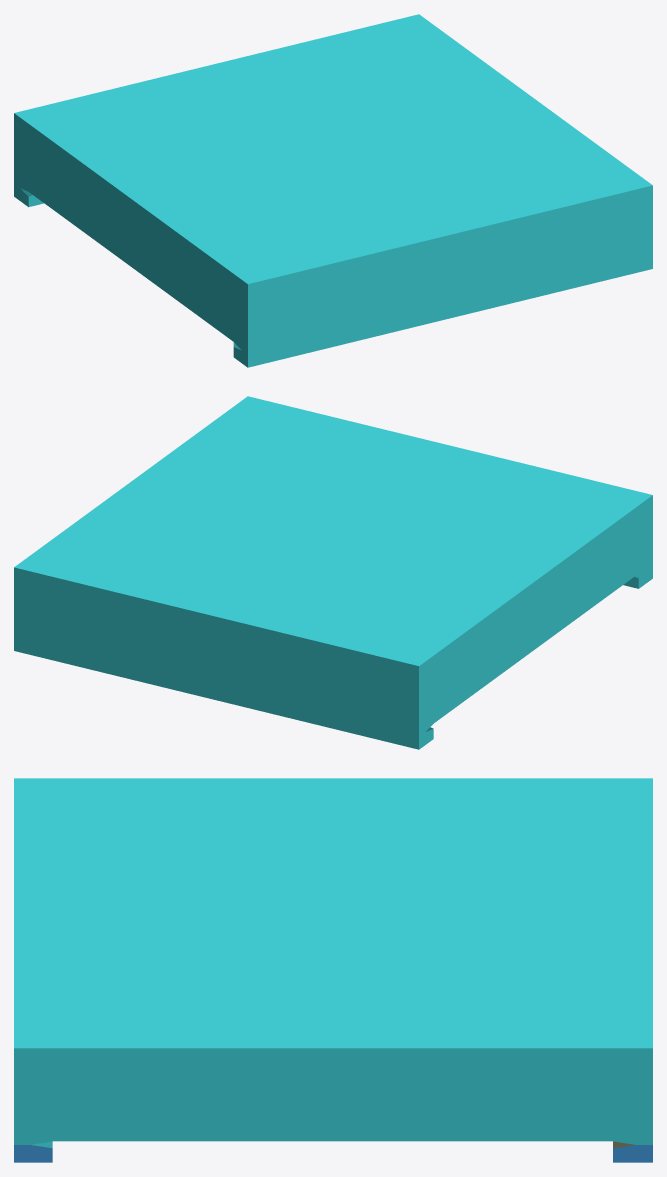
File: Small Building.fbx
3 views of the same model, one above another, from view 1: azimuth 30°, elevation 25°; view 2: azimuth 150°, elevation 25°; view 3: azimuth 270°, elevation 25° (orthographic). The views are drawn at different scales.
Visible parts, largest first — view 1: Cube; view 2: Cube; view 3: Cube.
Boxes of the visible parts, x1,y1,x2,y2 form: Cube: (14,14,652,367); Cube: (14,396,652,749); Cube: (14,778,652,1162).
Size of the model in its own units: 500 by 100 by 500.
